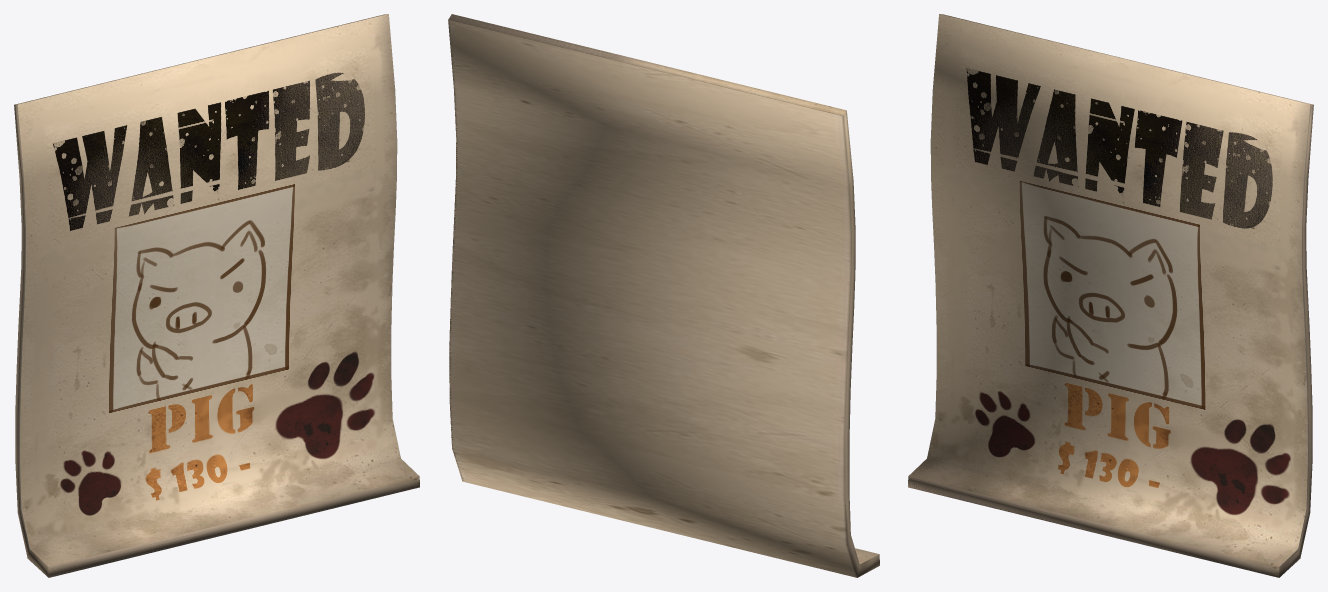
File: PW_PAPER.fbx
3 views of the same model, side by side, from view 1: azimuth 30°, elevation 25°; view 2: azimuth 150°, elevation 25°; view 3: azimuth 330°, elevation 25° (orthographic). The views are drawn at different scales.
Parts seen in each view (by area): view 1: Nurbs路徑; view 2: Nurbs路徑; view 3: Nurbs路徑.
Part boxes in pixels (x1=…): Nurbs路徑: x1=14, y1=14, x2=419, y2=577; Nurbs路徑: x1=448, y1=14, x2=879, y2=577; Nurbs路徑: x1=908, y1=14, x2=1313, y2=577.
Size of the model in its own units: 410 by 476 by 66.25.
1 material, 1 textured.
